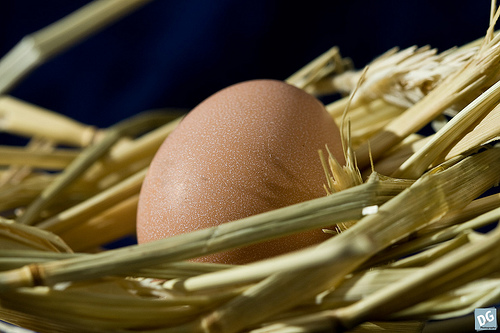egg: (134, 78, 350, 256)
